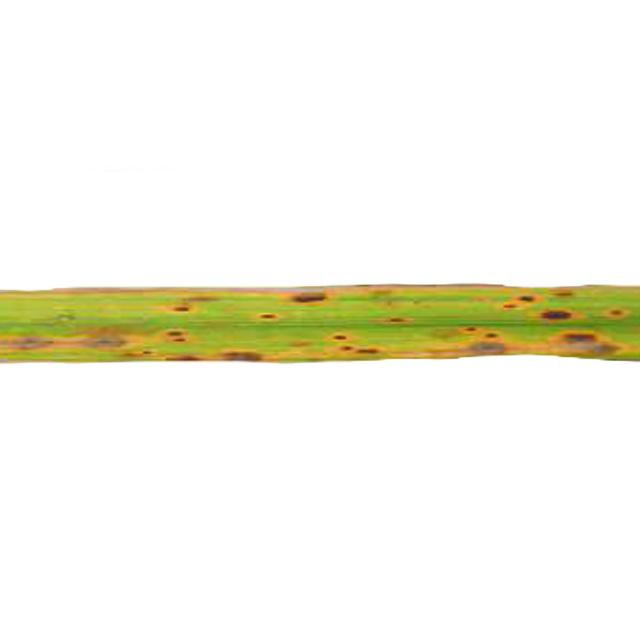Brown spot: (0, 272, 640, 378)
